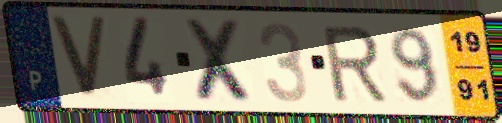3: (257, 20, 309, 104)
4: (121, 13, 177, 106)
9: (386, 24, 440, 105)
R: (319, 23, 390, 104)
V: (46, 13, 110, 103)
X: (180, 15, 261, 106)
